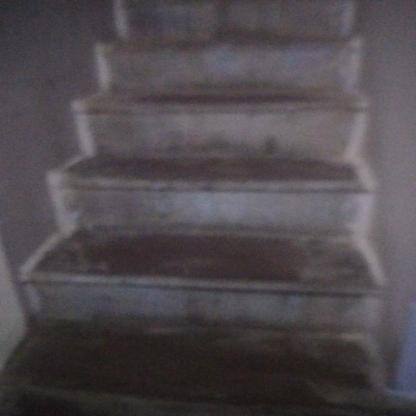stair: (39, 3, 376, 416)
